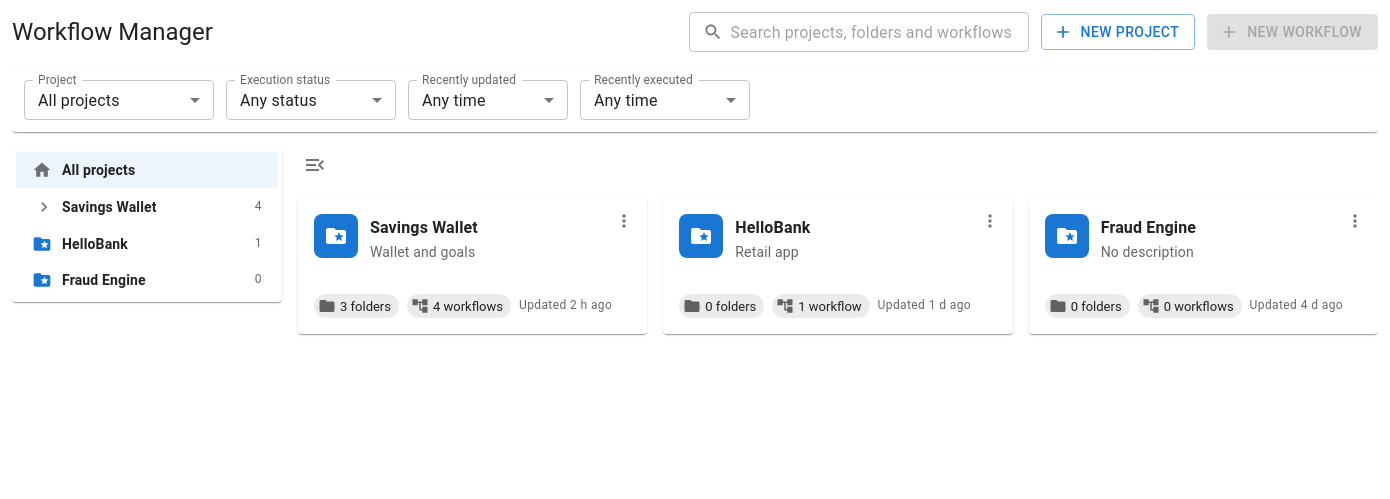
Folders and workflows levels › opens a project to its folders, then a folder to its workflows, and goes back through the navigation tree
Step 1. Click the button with aria-label "open project Savings Wallet" → (336, 236), box [298,198,647,334]
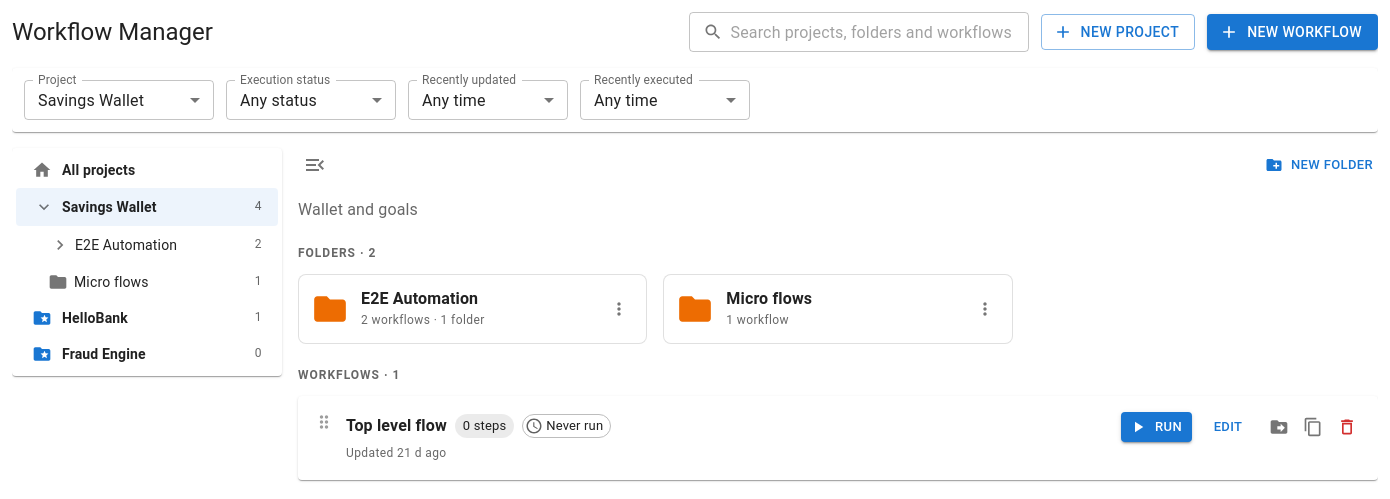
Check: the button with aria-label "open folder E2E Automation" is shown
Check: the button with aria-label "open folder Micro flows" is shown, box [663,274,1013,344]
Check: the heading "Top level flow" is shown, box [346,412,447,440]
Step 2. Click the button with aria-label "open folder E2E Automation" → (473, 309), box [298,274,647,344]
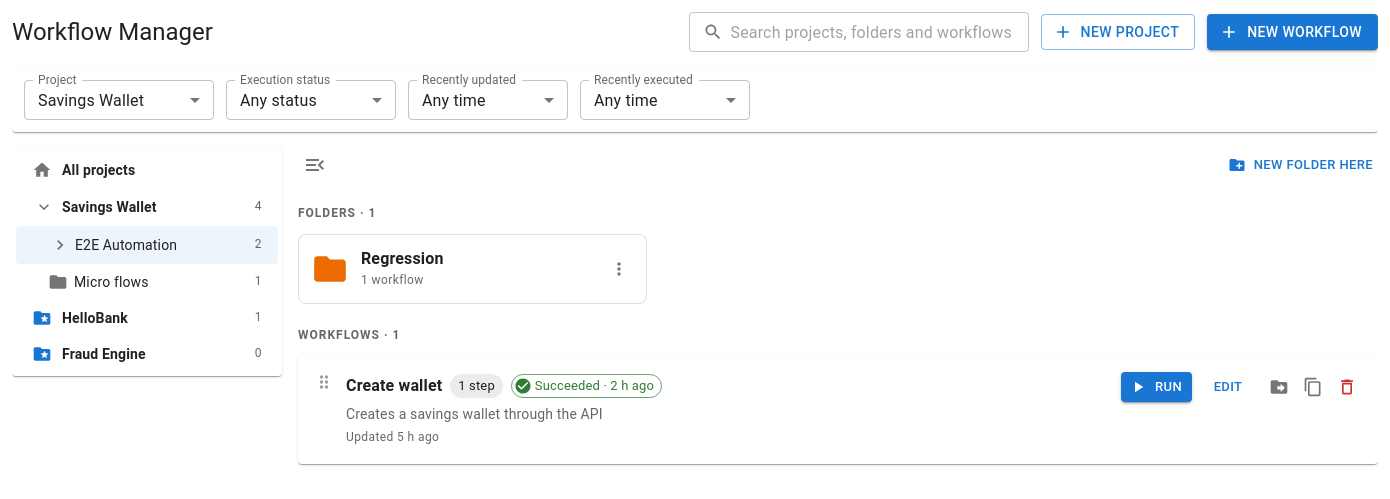
Check: the heading "Create wallet" is shown, box [346,372,442,400]
Check: the button with aria-label "open folder Regression" is shown, box [298,234,647,304]
Check: the heading "Top level flow" is gone
Step 3. Click the button with aria-label "tree project Savings Wallet" → (147, 207), box [16,188,278,226]
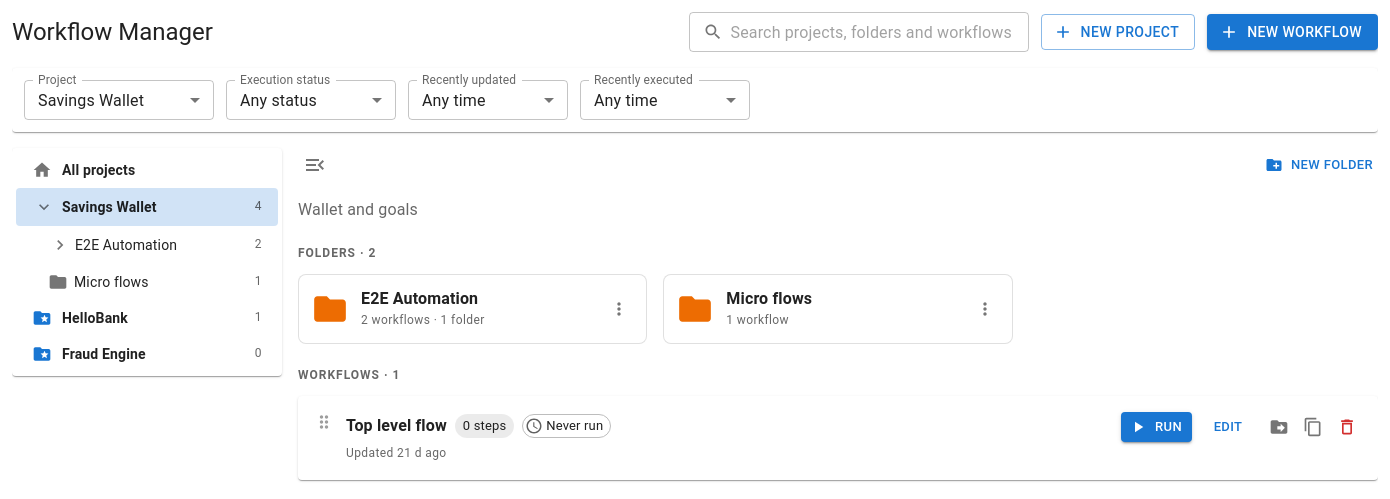
Check: the heading "Top level flow" is shown, box [346,412,447,440]
Step 4. Click the button "All projects" → (84, 170), box [32,160,135,180]
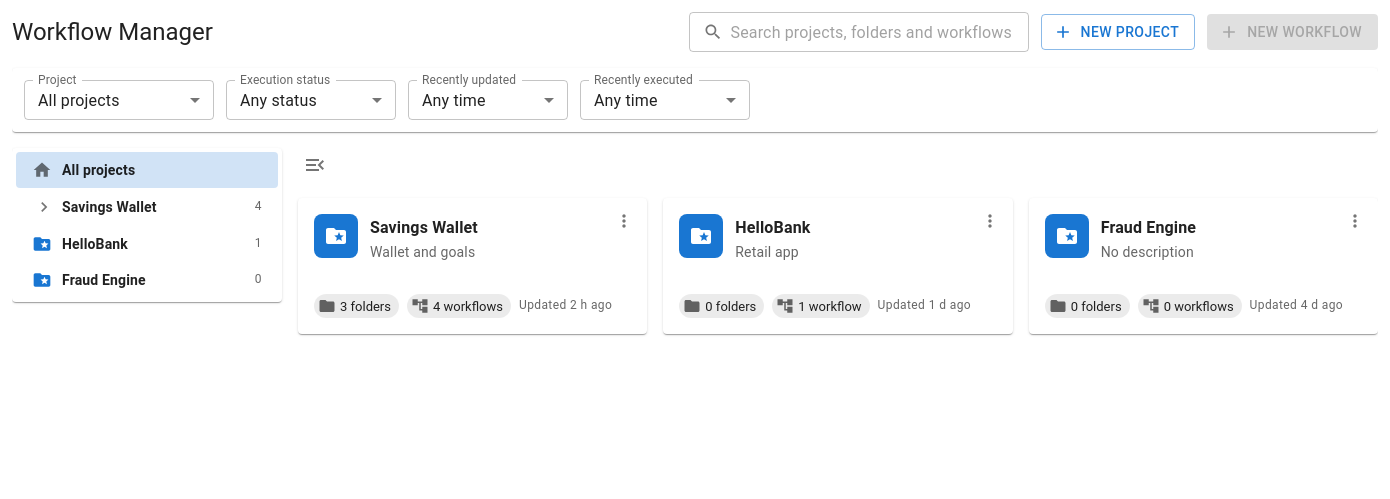
Check: the button with aria-label "open project HelloBank" is shown, box [663,198,1013,334]
